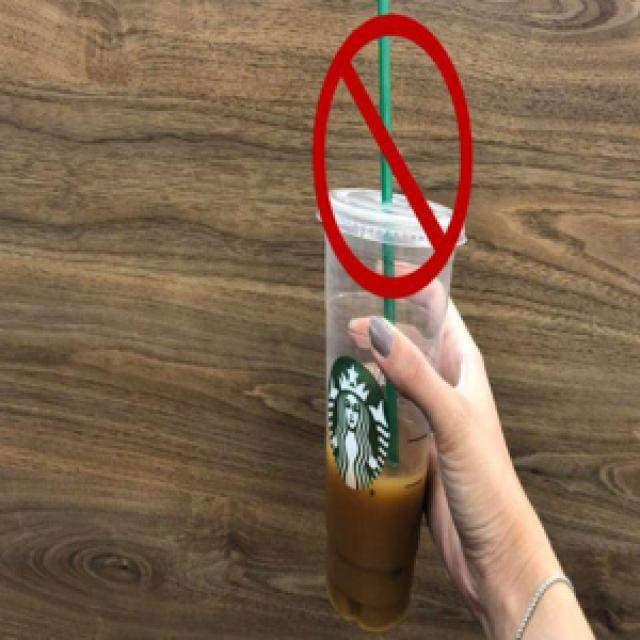plastic cup: (279, 148, 456, 630)
